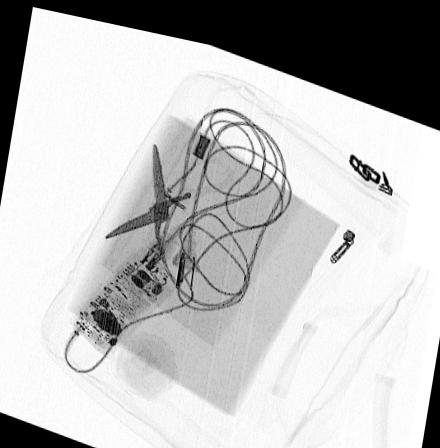Scissors: (103, 134, 237, 287)
